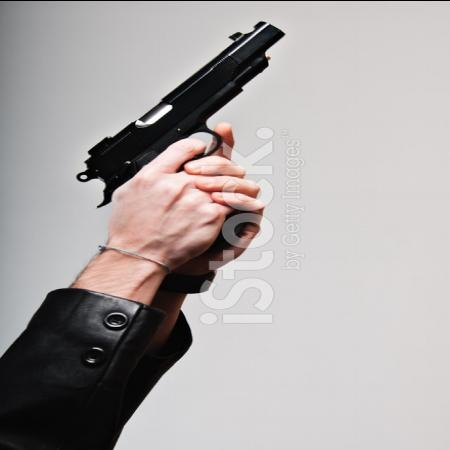Pistol: (74, 20, 288, 254)
